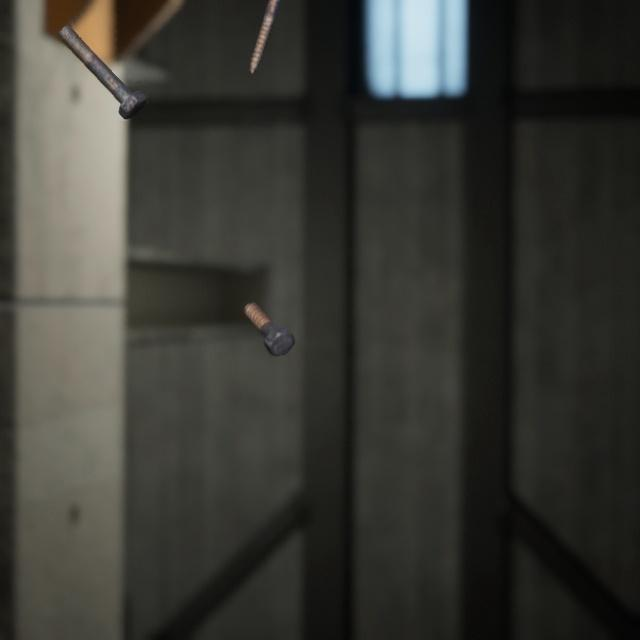bolt: (54, 11, 151, 113), (240, 280, 299, 341), (244, 0, 283, 69)
